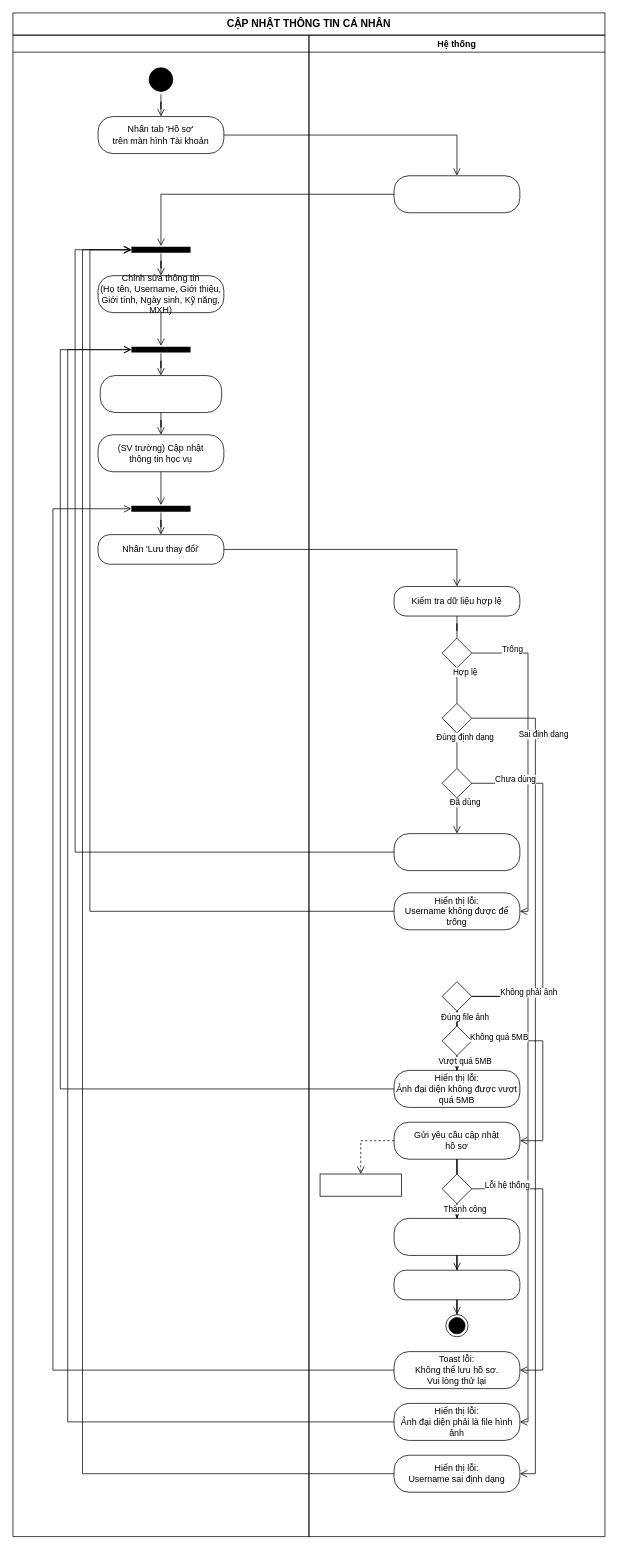
Some shapes in this 618 by 1550 pixel diagram are drawn without their labels. Each missing label, with the box of its shape:
(Tuỳ chọn) Đổi ảnh đại diện / ảnh bìa: (100, 375, 222, 413)
Hiển thị form hồ sơ với thông tin hiện tại: (393, 175, 520, 213)
Hiển thị lỗi: Username đã được sử dụng: (393, 833, 520, 871)
Làm mới dữ liệu hồ sơ: (393, 1269, 520, 1300)
Thành viên: (12, 34, 309, 1537)
Toast: 'Đã lưu hồ sơ thành công!': (393, 1218, 520, 1255)
UserProfile: (319, 1173, 401, 1196)
